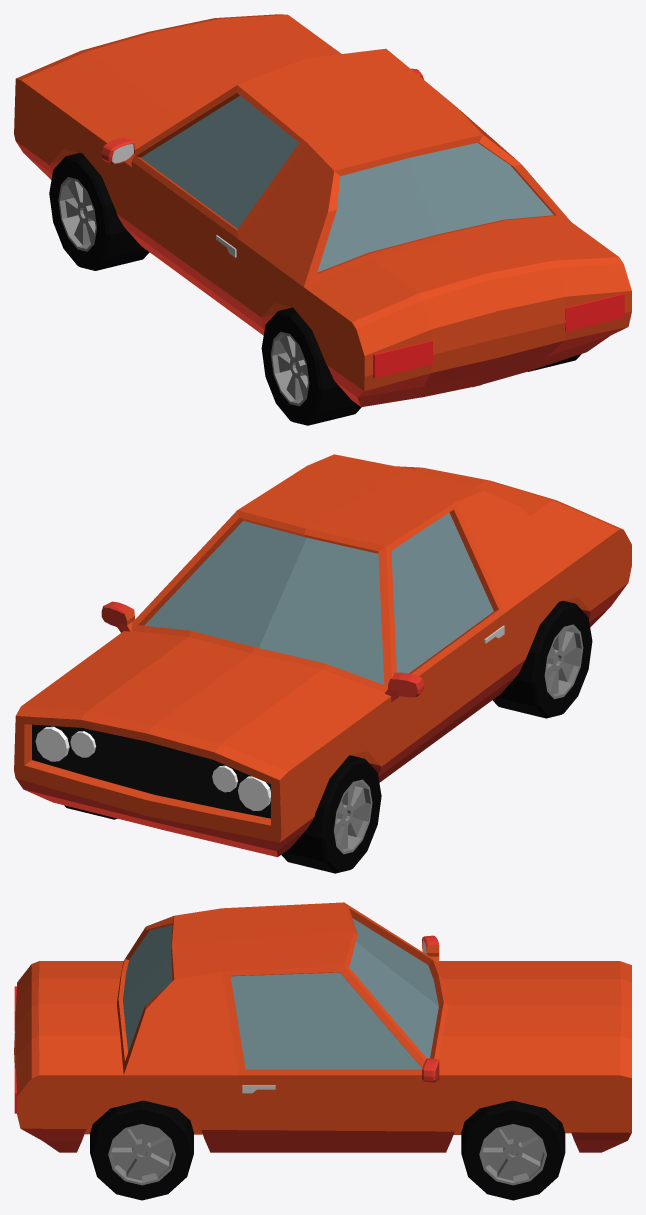
The model's file is car.fbx.
The picture shows the model from 3 angles, top to bottom: view 1: azimuth 30°, elevation 25°; view 2: azimuth 150°, elevation 25°; view 3: azimuth 270°, elevation 25°; orthographic projection. The views are drawn at different scales.
Visible parts, largest first — view 1: Cube, Cylinder.003, Cylinder.004; view 2: Cube, Cylinder.003, Cylinder.004; view 3: Cube, Cylinder.001, Cylinder.002.
Part boxes in pixels (x1,y1,x2,y2): Cube: (14, 14, 631, 406); Cylinder.003: (49, 153, 149, 270); Cylinder.004: (261, 307, 361, 425); Cube: (14, 454, 631, 857); Cylinder.003: (281, 755, 381, 873); Cylinder.004: (492, 600, 592, 718); Cube: (14, 902, 631, 1152); Cylinder.001: (461, 1100, 565, 1200); Cylinder.002: (90, 1100, 193, 1200).
Size of the model in its own units: 87.61 by 63.58 by 168.
